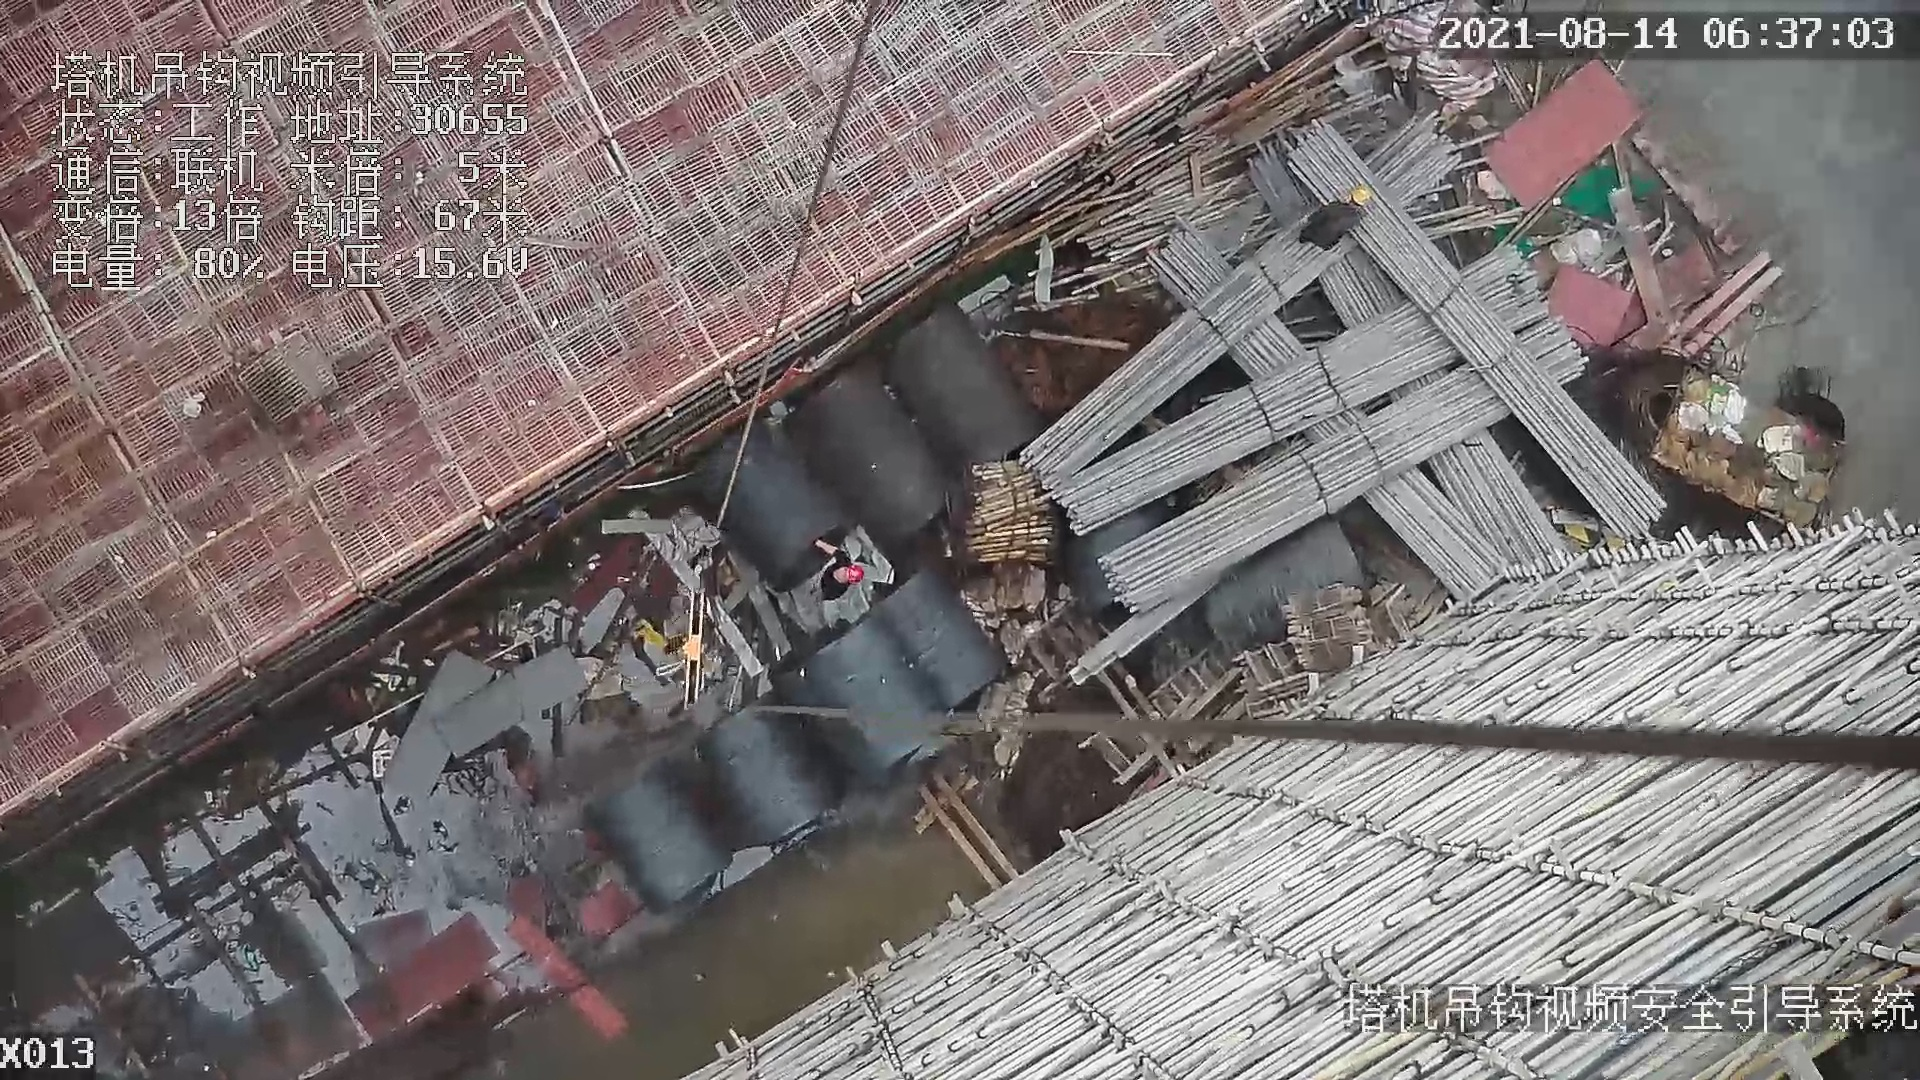helmet: (844, 559, 865, 585), (1350, 187, 1370, 207)
hook: (653, 586, 715, 709)
person: (1297, 185, 1374, 249), (813, 535, 867, 605)
scaffold: (1059, 104, 1670, 597), (962, 450, 1060, 578)
